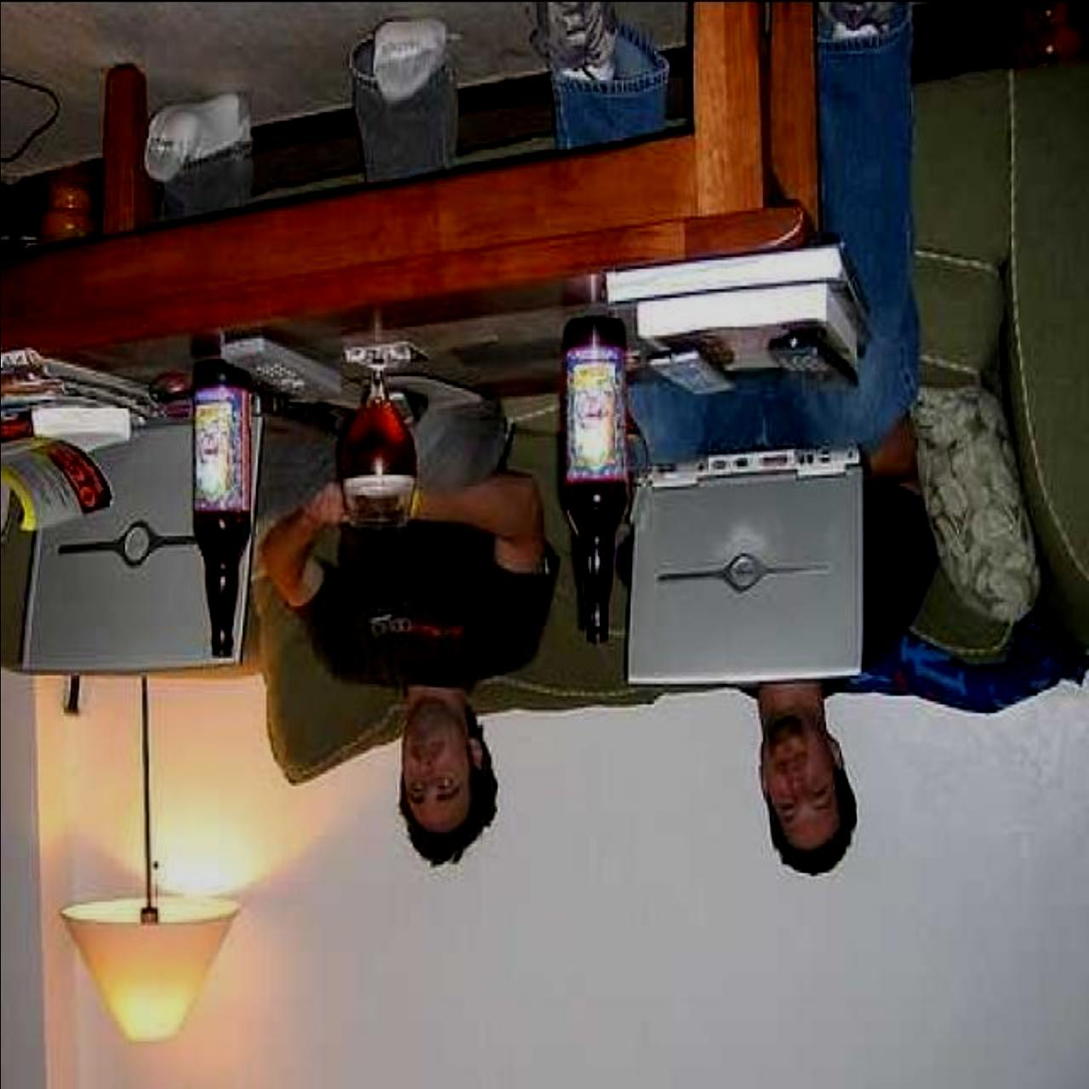laptop: (26, 396, 236, 665), (629, 449, 862, 667)
